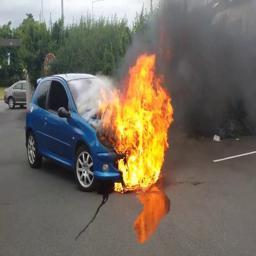fire: (100, 54, 174, 191)
